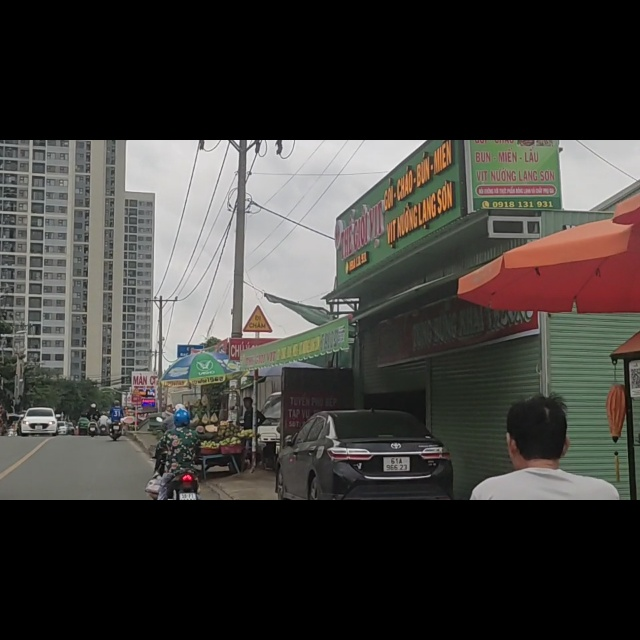bien_nguy_hiem: (243, 293, 272, 341)
